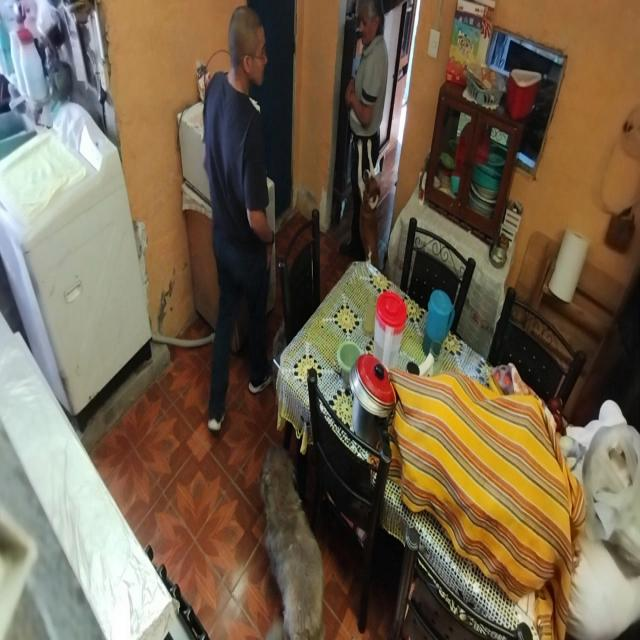adult: (204, 0, 281, 437), (339, 2, 396, 265)
